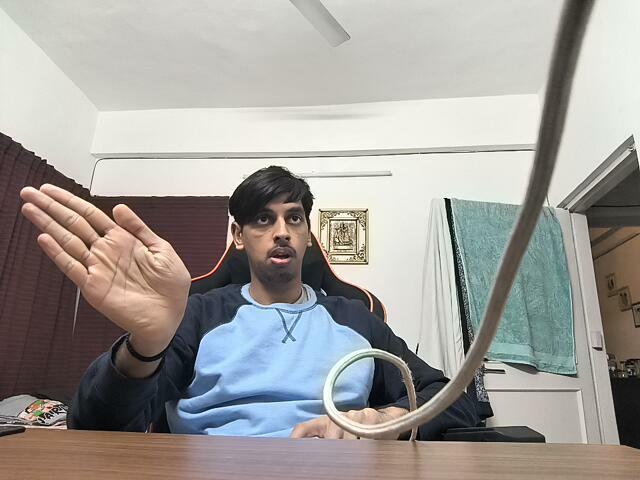STOP: (16, 170, 205, 353)
